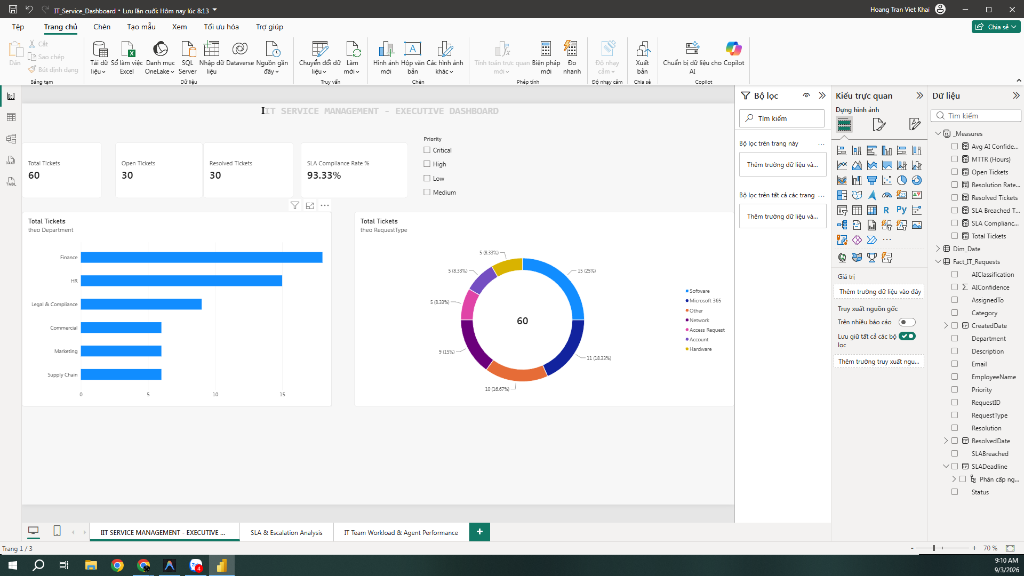

Layout of this report page (visuals, bound fields, positions):
{"tool":"powerbi","page":{"name":"Trang 1","canvas":[1920,1080],"ordinal":0},"visuals":[{"type":"textbox","box":[10.2,0,1909.8,48.1],"z":0},{"type":"cardVisual","fields":{"Data":["_Measures.Total Tickets"]},"box":[0,105,215,150],"z":1000},{"type":"donutChart","fields":{"Category":["Fact_IT_Requests.RequestType"],"Y":["_Measures.Total Tickets"]},"box":[895.3,291.7,1024.7,524.6],"z":2000},{"type":"clusteredBarChart","fields":{"Category":["Fact_IT_Requests.Department"],"Y":["_Measures.Total Tickets"]},"box":[0,291.7,835,524.6],"z":3000},{"type":"cardVisual","fields":{"Data":["_Measures.Open Tickets"]},"box":[251.7,105,236.7,150],"z":4000},{"type":"cardVisual","fields":{"Data":["_Measures.SLA Compliance Rate %"]},"box":[751.7,105,288.3,150],"z":5000},{"type":"cardVisual","fields":{"Data":["_Measures.Resolved Tickets"]},"box":[488.3,105,243.3,150],"z":6000},{"type":"slicer","fields":{"Values":["Fact_IT_Requests.Priority"]},"box":[1075,88.3,321.7,181.7],"z":7000}]}

Visuals, with their boxes on the page's 1920x1080 design canvas (x1, y1, x2, y2). These are canvas units, not pixel positions in the 1024x576 screenshot, which may show the page scaled, cropped or inside an application window:
textbox: locate(10, 0, 1920, 48)
cardVisual - _Measures.Total Tickets: locate(0, 105, 215, 255)
donutChart - Fact_IT_Requests.RequestType x _Measures.Total Tickets: locate(895, 292, 1920, 816)
clusteredBarChart - Fact_IT_Requests.Department x _Measures.Total Tickets: locate(0, 292, 835, 816)
cardVisual - _Measures.Open Tickets: locate(252, 105, 488, 255)
cardVisual - _Measures.SLA Compliance Rate %: locate(752, 105, 1040, 255)
cardVisual - _Measures.Resolved Tickets: locate(488, 105, 732, 255)
slicer - Fact_IT_Requests.Priority: locate(1075, 88, 1397, 270)
